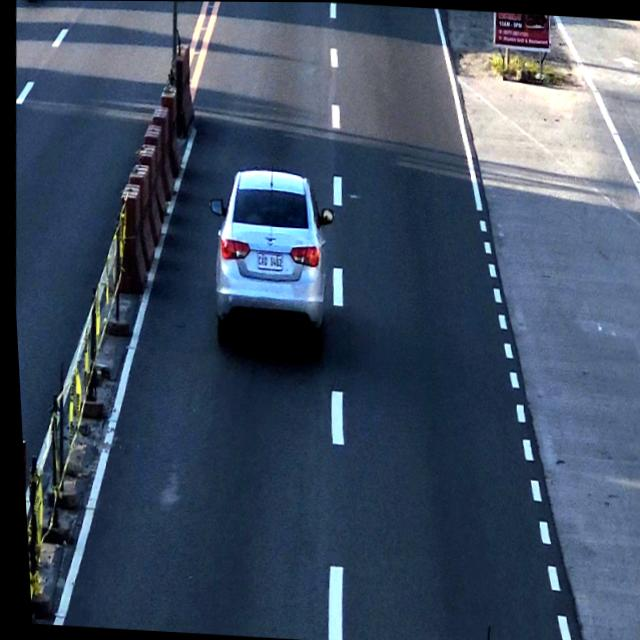Car: (202, 163, 342, 356)
License-Plate: (253, 249, 283, 273)
